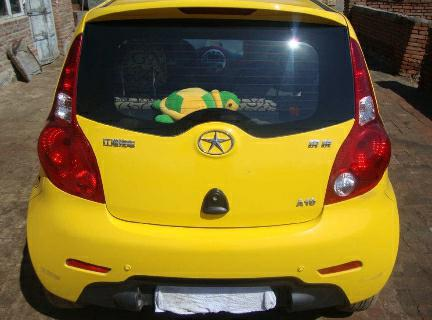江淮-同悦: (23, 2, 406, 320)
